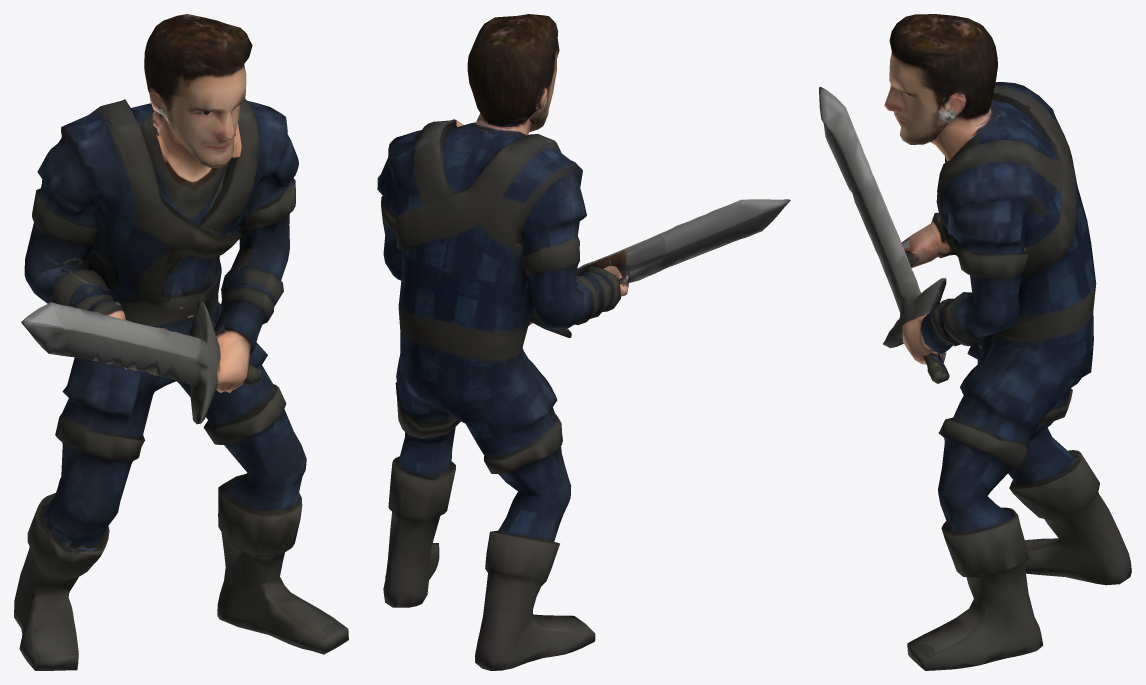
File: BobboMob.obj
3 views of the same model, side by side, from view 1: azimuth 30°, elevation 25°; view 2: azimuth 150°, elevation 25°; view 3: azimuth 270°, elevation 25° (orthographic). The views are drawn at different scales.
Parts seen in each view (by area): view 1: BobboMob; view 2: BobboMob; view 3: BobboMob.
Part boxes in pixels (x1,y1,x2,y2): BobboMob: (14, 14, 348, 670); BobboMob: (377, 14, 790, 670); BobboMob: (819, 14, 1131, 670).
Bounding box in the file's own units: 1.56 × 2.5 × 1.2.
Materials: 1 (1 with a texture image).
